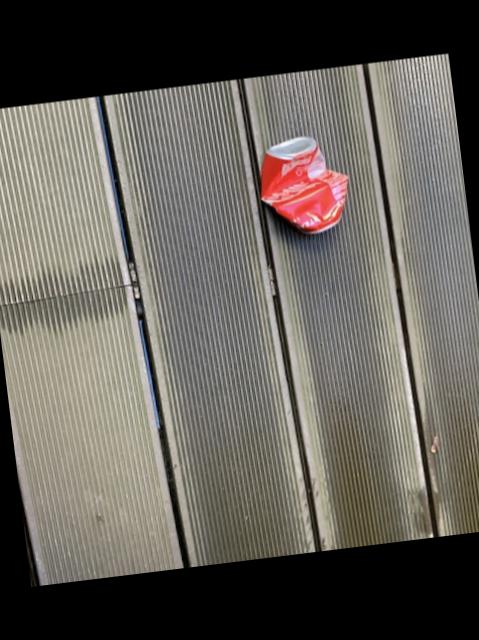metal: (261, 137, 347, 231)
